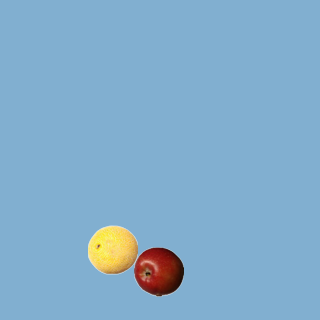Apple Braeburn: (133, 246, 183, 296)
Cantaloupe 1: (87, 224, 137, 274)
